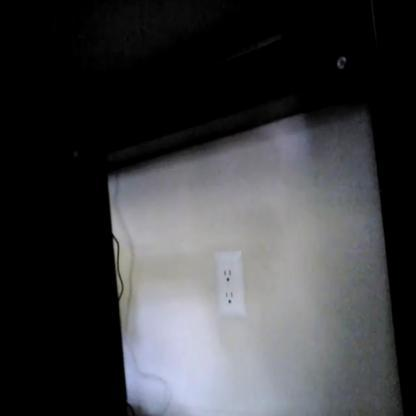OUTLET: (214, 250, 244, 314)
